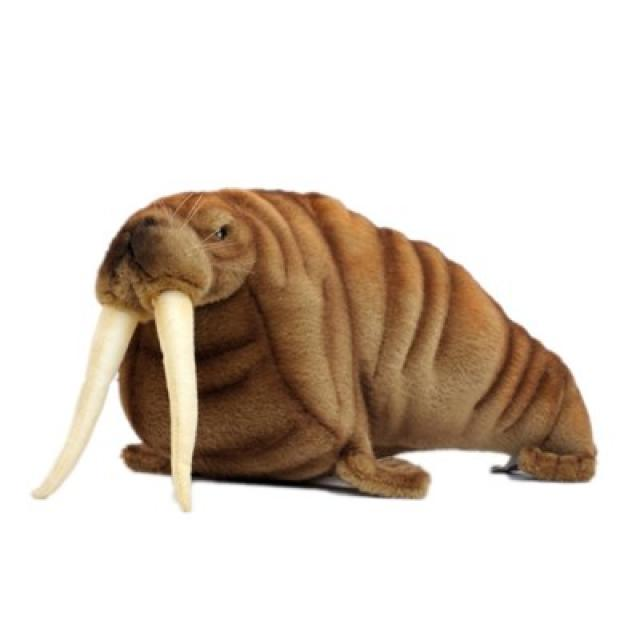walrus: (50, 152, 624, 548)
